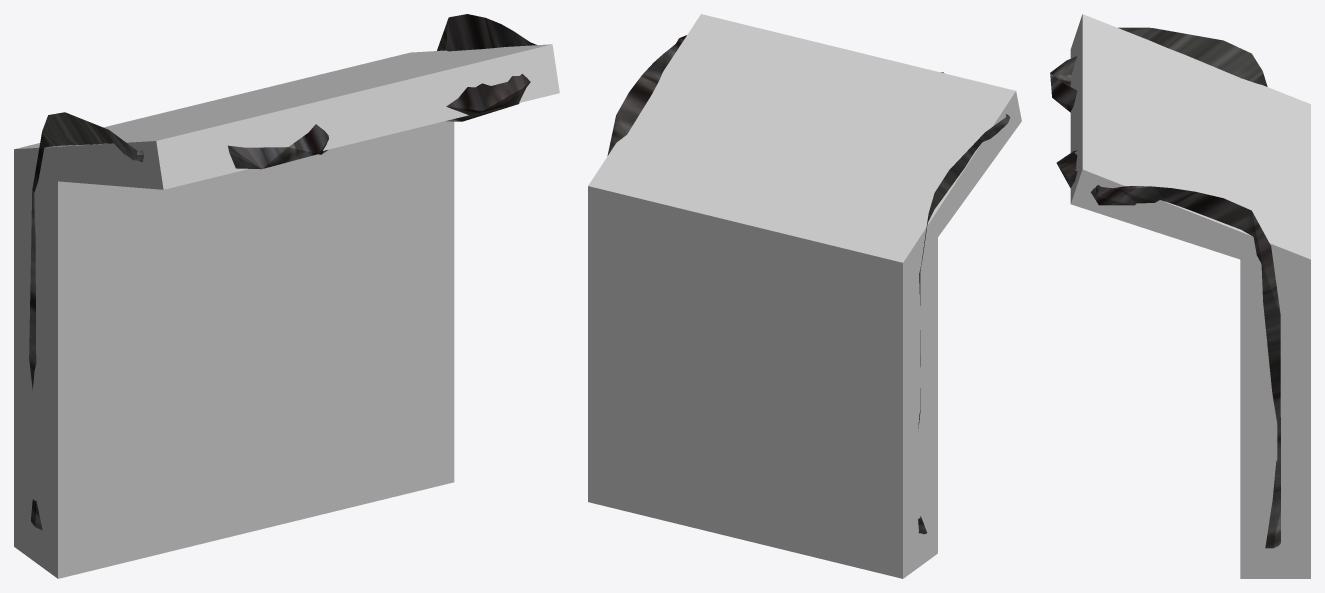
File: Cave Wall 2.fbx
3 views of the same model, side by side, from view 1: azimuth 30°, elevation 25°; view 2: azimuth 150°, elevation 25°; view 3: azimuth 270°, elevation 25° (orthographic). The views are drawn at different scales.
Parts seen in each view (by area): view 1: Cube.002, Cave Wall 2; view 2: Cube.002, Cave Wall 2; view 3: Cube.002, Cave Wall 2.
Boxes of the visible parts, x1,y1,x2,y2 form: Cube.002: (14,44,559,578); Cave Wall 2: (29,14,536,530); Cube.002: (588,14,1021,578); Cave Wall 2: (607,35,1010,534); Cube.002: (1070,14,1310,578); Cave Wall 2: (1050,27,1280,548).
Bounding box in the file's own units: 1087 × 1280 × 738.
1 material, 1 textured.
